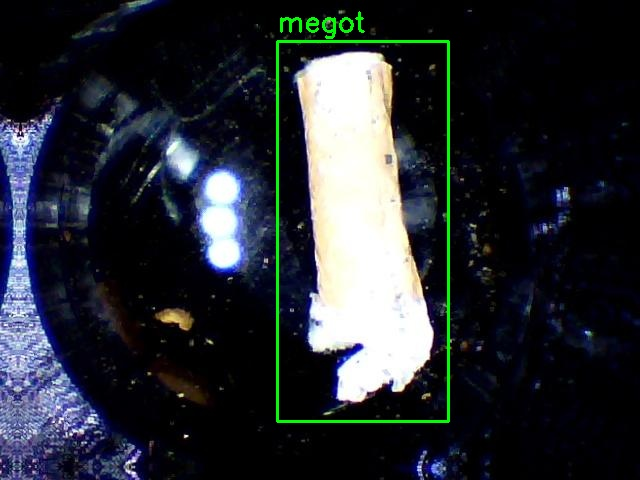megot: (277, 41, 448, 421)
